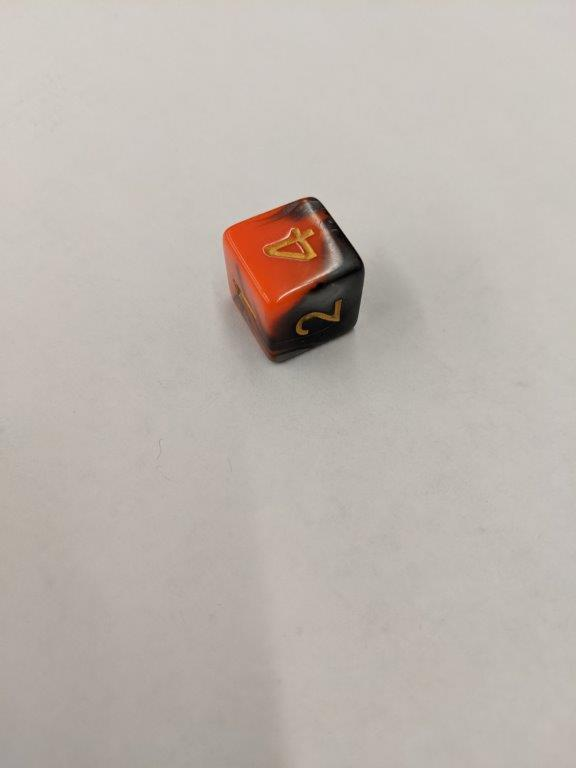d6-4: (218, 195, 365, 361)
